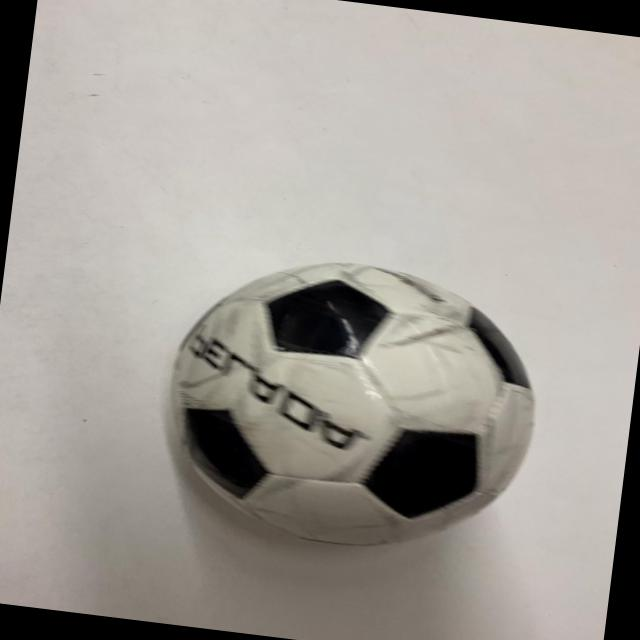Soccer Ball: (148, 242, 552, 570)
